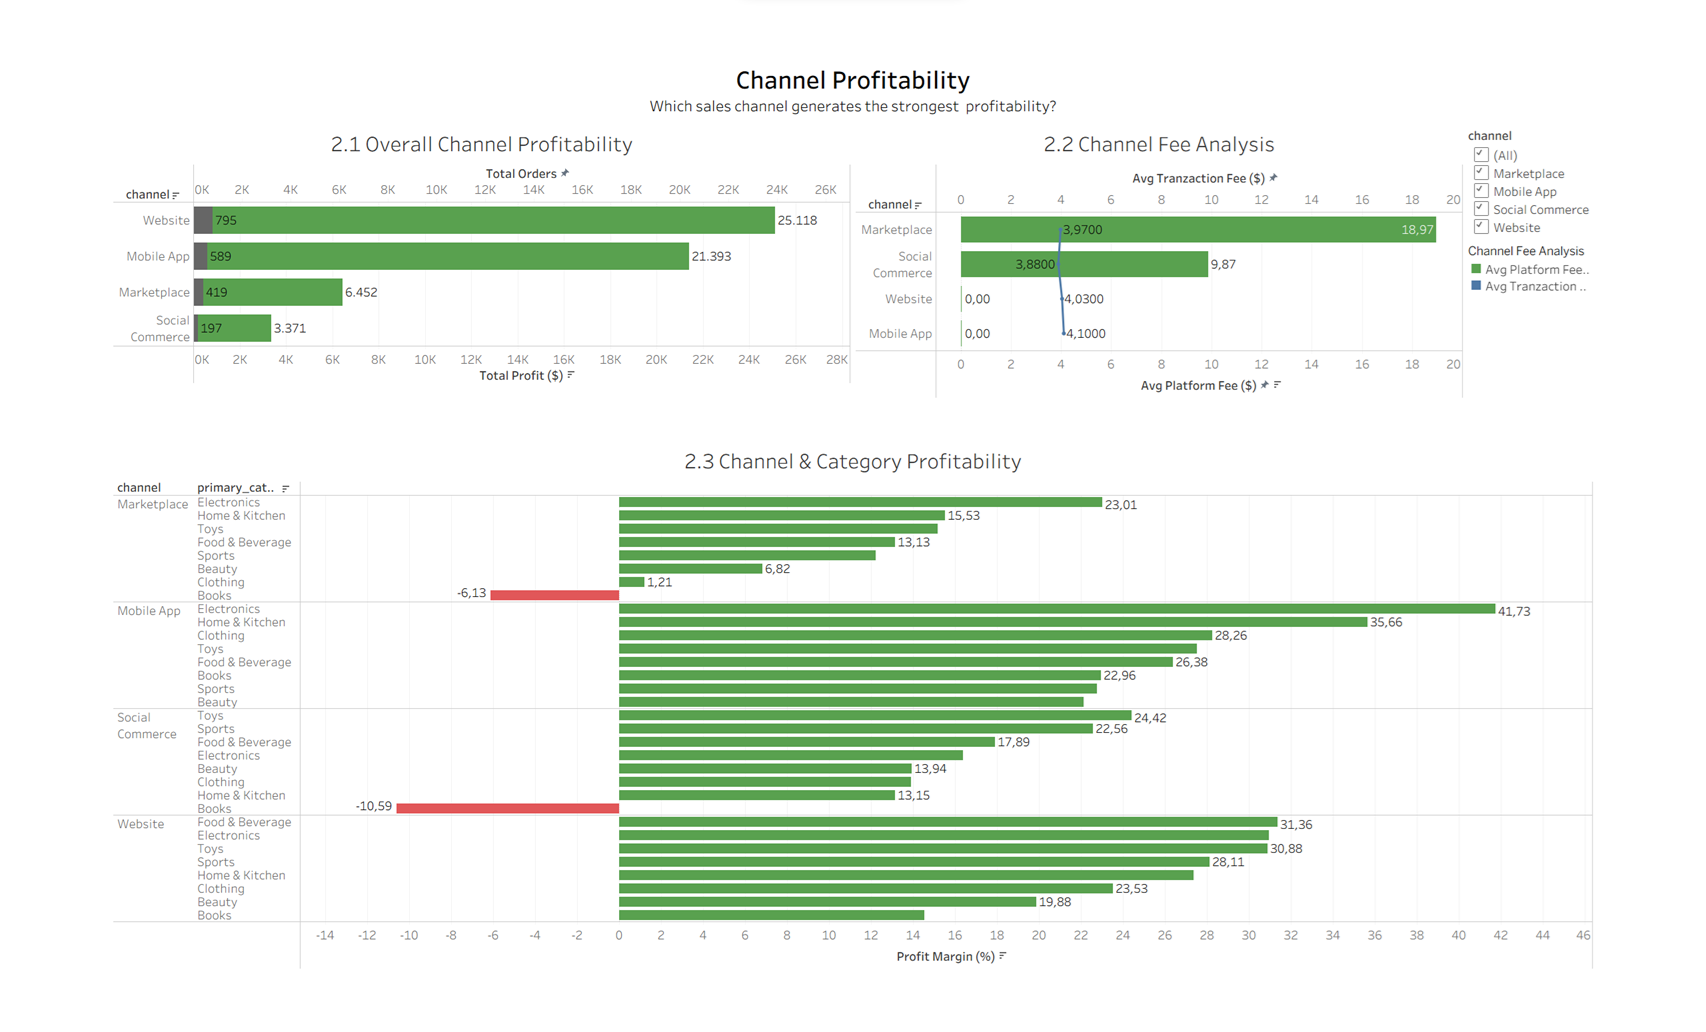

What the dashboard file says about the page in this screenshot:
{"tool":"tableau","page":{"name":"Channel Profitability","canvas":[2244,1398],"ordinal":1},"visuals":[{"type":"text","box":[8,8,2228,103]},{"type":"worksheet","title":"2.1 Overall Channel Profitability","mark":"Bar","rows":["channel"],"cols":["total_profit","total_orders"],"box":[8,111,1114,476]},{"type":"worksheet","title":"2.2 Channel Fee Analysis","mark":"Line","rows":["channel"],"cols":["avg_platform_fee","avg_transaction_fee"],"box":[1122,111,919,476]},{"type":"filter","title":"2.1 Overall Channel Profitability","param":"[federated.0d7cje01xsoi8312kc4aw08fqo15].[none:channel (q2_channel_category_prof","box":[2041,111,195,175]},{"type":"legend","title":"2.2 Channel Fee Analysis","param":"[federated.0d7cje01xsoi8312kc4aw08fqo15].[:Measure Names]","box":[2041,286,195,84]},{"type":"worksheet","title":"2.3 Channel & Category Profitability","mark":"Automatic","rows":["channel","primary_category"],"cols":["profit_margin_pct (q2_channel_category_profitability.csv)"],"box":[8,587,2228,803]}]}

Visuals, with their boxes in screenshot pixels (x1, y1, x2, y2), scaled from the page's 2244x1398 canvas onto the 1706x1032 screenshot:
text: (x1=6, y1=6, x2=1700, y2=82)
"2.1 Overall Channel Profitability" worksheet (Bar marks): (x1=6, y1=82, x2=853, y2=433)
"2.2 Channel Fee Analysis" worksheet (Line marks): (x1=853, y1=82, x2=1552, y2=433)
"2.1 Overall Channel Profitability" filter: (x1=1552, y1=82, x2=1700, y2=211)
"2.2 Channel Fee Analysis" legend: (x1=1552, y1=211, x2=1700, y2=273)
"2.3 Channel & Category Profitability" worksheet: (x1=6, y1=433, x2=1700, y2=1026)
